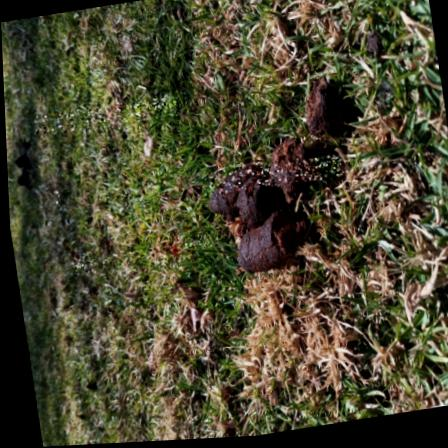dog-poop: (191, 66, 366, 285)
